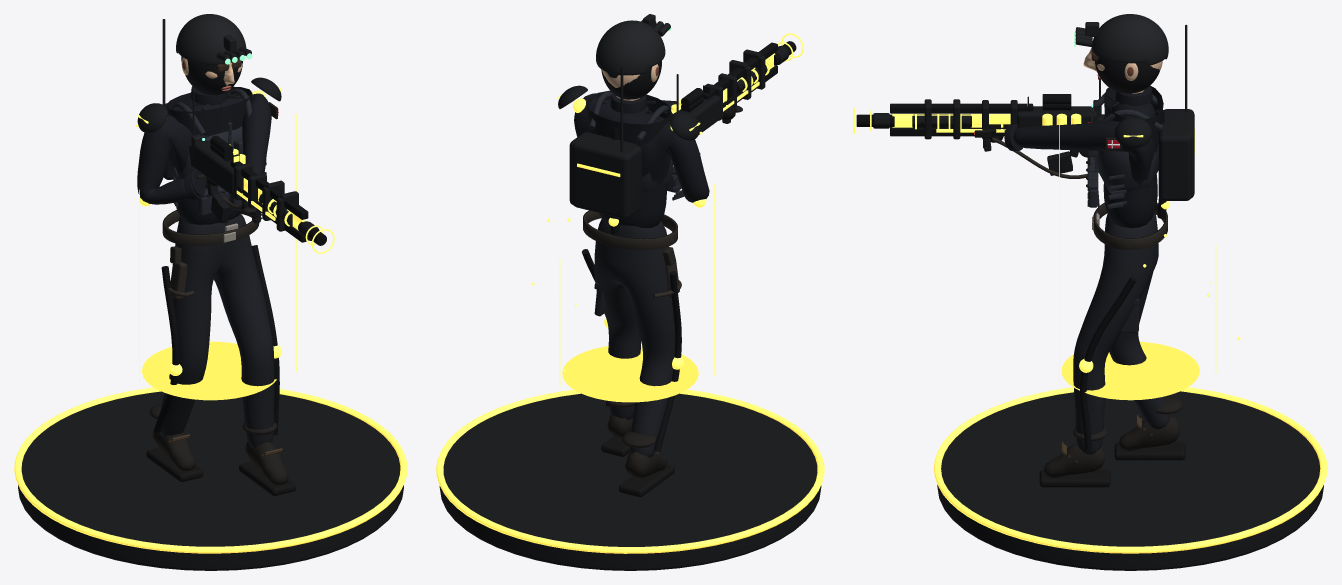
The model's file is skinne_nat.glb.
The picture shows the model from 3 angles, left to right: view 1: azimuth 30°, elevation 25°; view 2: azimuth 150°, elevation 25°; view 3: azimuth 270°, elevation 25°; orthographic projection.
Visible parts, largest first — view 1: fod_net, menneske_net, hoved_net, op4.001_net, op1_net, op4.002_net, vaaben_net, op1.001_net, op3_net, ned1.001_net, op3.001_net, op4_net; view 2: fod_net, menneske_net, op4.002_net, op4.001_net, hoved_net, op1_net, op3_net, vaaben_net, op1.001_net, ned1.001_net, ned4_net, op4_net; view 3: fod_net, menneske_net, hoved_net, op4.001_net, op1_net, op4.002_net, ned4_net, ned1.001_net, op1.001_net, vaaben_net, op3_net, op3.001_net.
Boxes of the visible parts, x1,y1,x2,y2 form: fod_net: [14, 387, 407, 570]; menneske_net: [137, 86, 295, 495]; hoved_net: [176, 14, 252, 95]; op4.001_net: [135, 114, 296, 400]; op1_net: [162, 88, 266, 299]; op4.002_net: [139, 90, 281, 435]; vaaben_net: [189, 140, 266, 208]; op1.001_net: [210, 135, 308, 239]; op3_net: [137, 19, 281, 174]; ned1.001_net: [210, 144, 308, 242]; op3.001_net: [216, 194, 319, 240]; op4_net: [236, 190, 334, 253]; fod_net: [436, 389, 824, 570]; menneske_net: [574, 90, 742, 497]; op4.002_net: [572, 98, 706, 451]; op4.001_net: [531, 131, 714, 402]; hoved_net: [596, 14, 671, 99]; op1_net: [583, 74, 681, 298]; op3_net: [558, 66, 700, 152]; vaaben_net: [671, 73, 736, 134]; op1.001_net: [681, 48, 777, 107]; ned1.001_net: [681, 42, 777, 112]; ned4_net: [569, 132, 684, 204]; op4_net: [723, 33, 803, 111]; fod_net: [933, 387, 1327, 570]; menneske_net: [989, 85, 1185, 487]; hoved_net: [1074, 14, 1168, 93]; op4.001_net: [1059, 124, 1240, 400]; op1_net: [1079, 80, 1167, 249]; op4.002_net: [1079, 109, 1195, 450]; ned4_net: [1107, 111, 1191, 207]; ned1.001_net: [890, 99, 1071, 138]; op1.001_net: [890, 94, 1098, 178]; vaaben_net: [982, 100, 1104, 157]; op3_net: [1109, 24, 1187, 199]; op3.001_net: [873, 113, 1061, 175].
Size of the model in its own units: 1.94 by 2.57 by 2.33.
